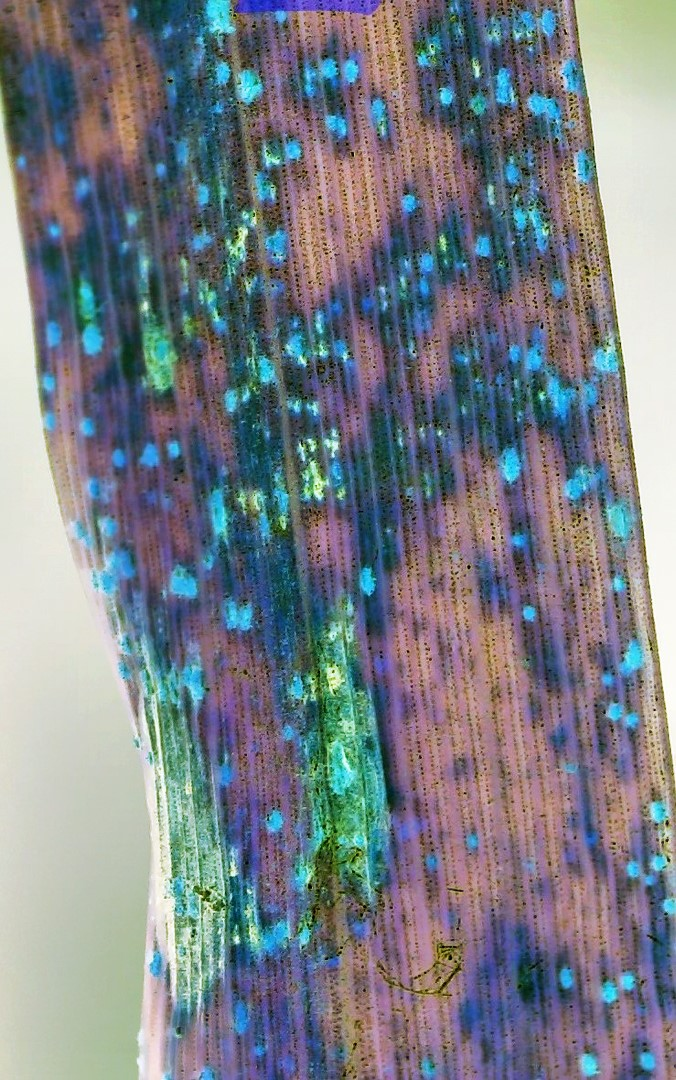Leaf Rust: (50, 79, 673, 1032)
